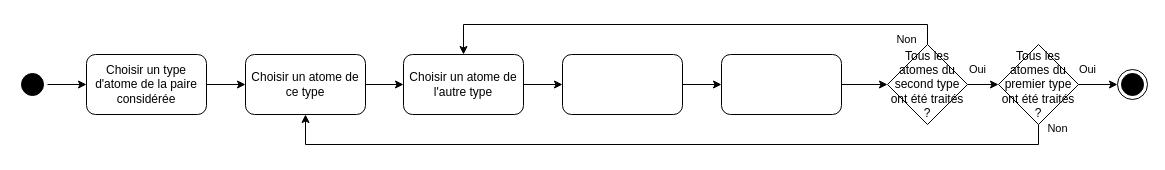
Some shapes in this 1165 by 170 pixel diagram are drawn without their labels. Here are the shapes that lost their labels. From the top down, the box of each, then its label:
(562, 54, 682, 114): Calculer la distance qui les sépare
(720, 54, 842, 114): Trouver l'entrée de l'histogramme correspondant et incrémenter sa valeur
